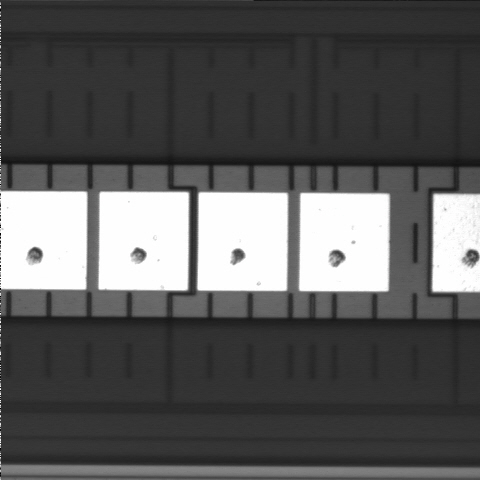pad: (197, 192, 288, 291), (98, 192, 189, 290), (299, 193, 389, 291)
